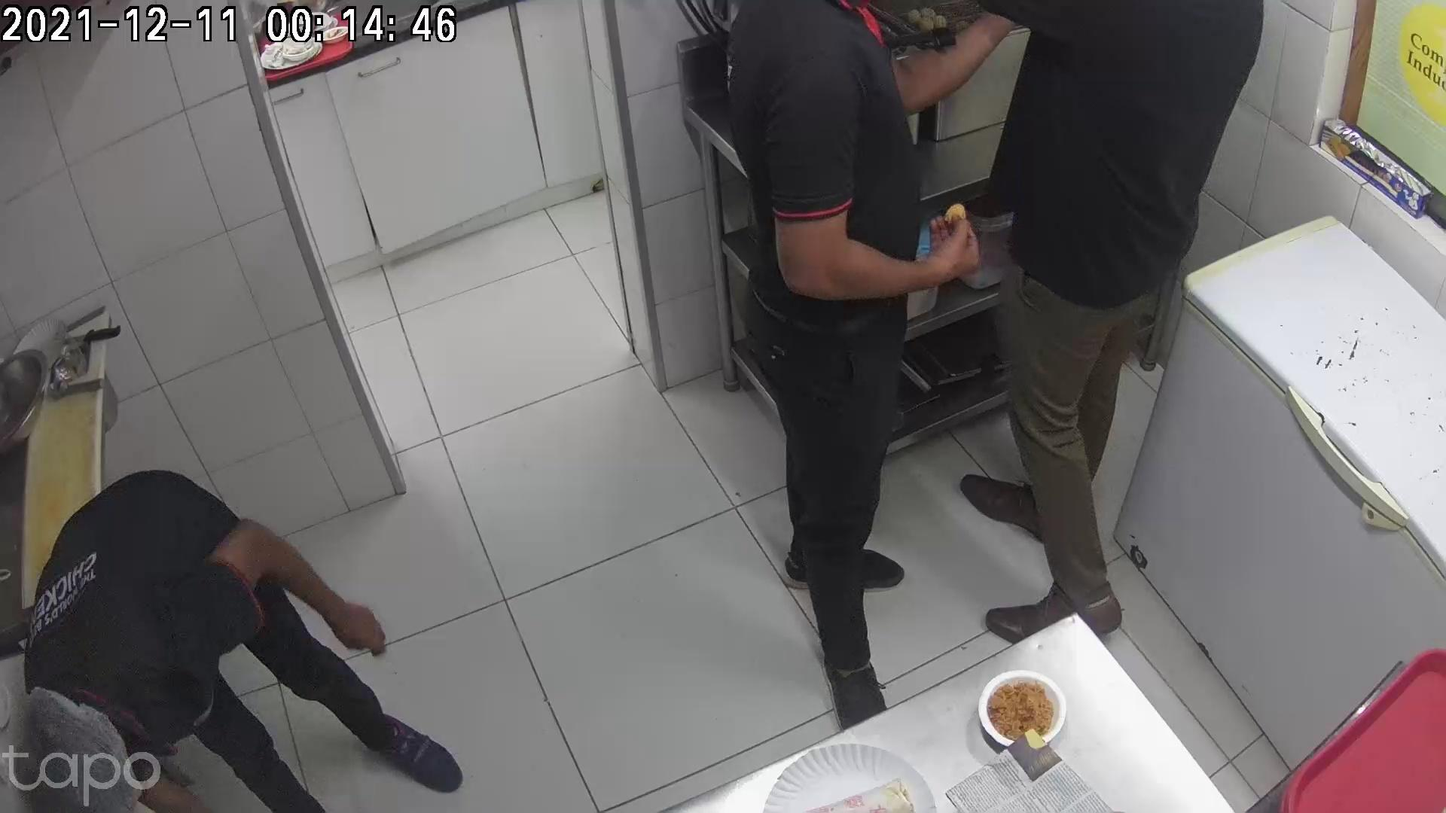no_gloves: (274, 631, 440, 771)
